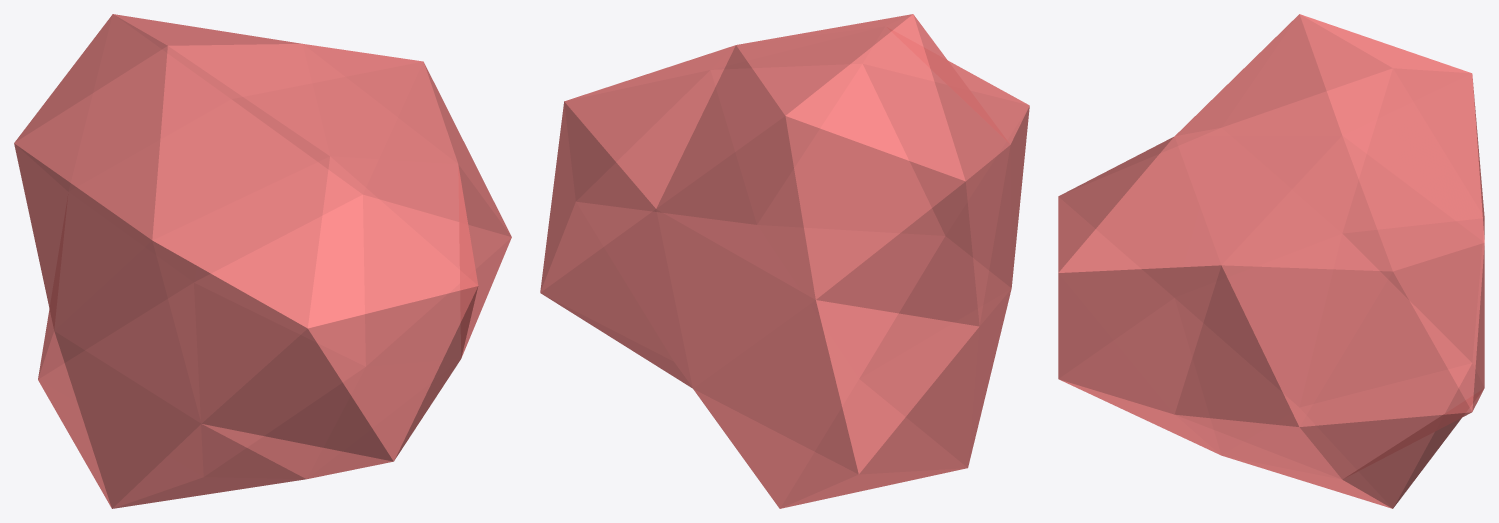
File: 29_Tetrambiated_Icosahedron.obj
3 renders of one model, left to right at view 1: azimuth 30°, elevation 25°; view 2: azimuth 150°, elevation 25°; view 3: azimuth 270°, elevation 25°, orthographic. The views are drawn at different scales.
Size of the model in its own units: 2.62 by 2.74 by 2.32.
